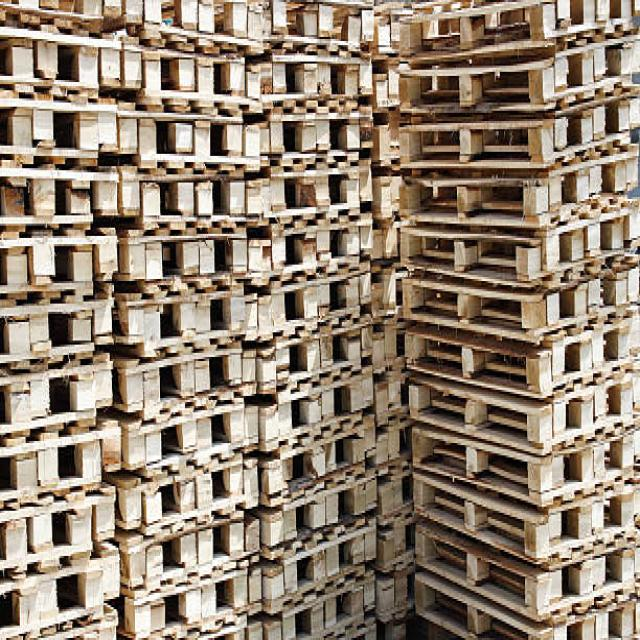Wooden-Pallets: (400, 311, 634, 407), (409, 422, 636, 513), (399, 86, 640, 170), (396, 207, 630, 283), (133, 445, 247, 539), (123, 220, 249, 284)
